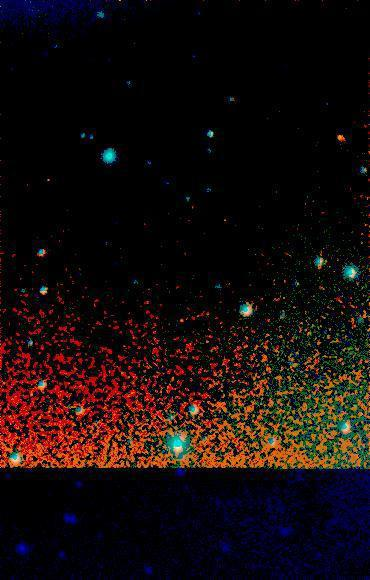star: (328, 126, 358, 156)
